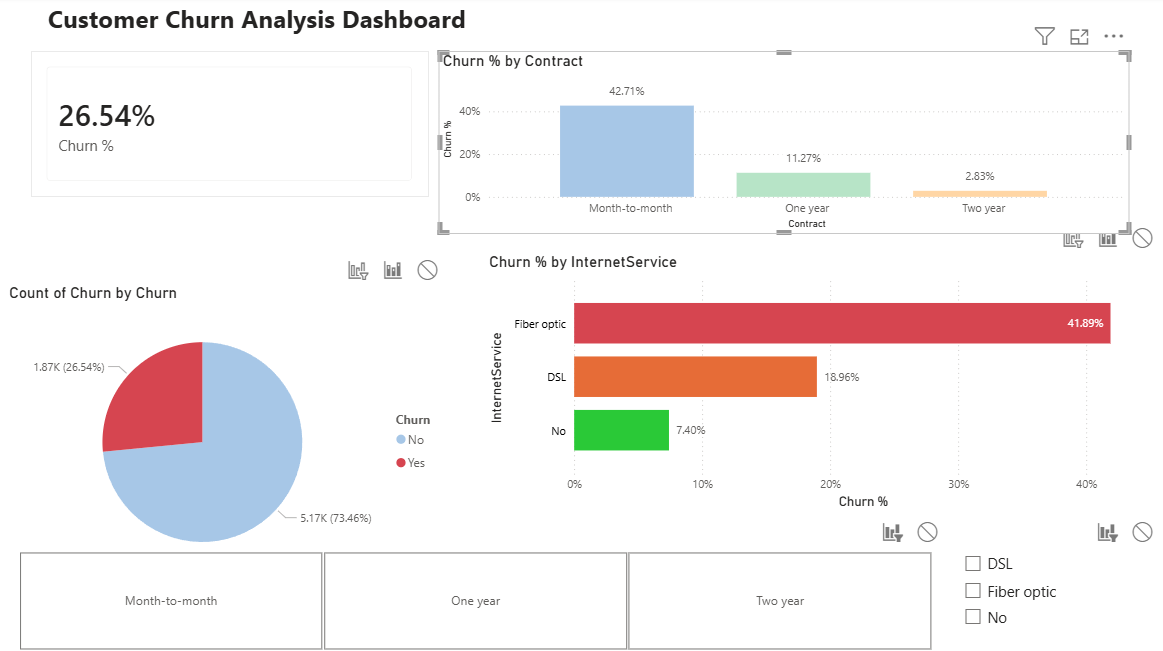

Layout of this report page (visuals, bound fields, positions):
{"tool":"powerbi","page":{"name":"Page 1","canvas":[1280,720],"ordinal":0},"visuals":[{"type":"cardVisual","fields":{"Data":["Churn.Churn %"]},"box":[38.2,60,433.9,159.6],"z":0},{"type":"pieChart","fields":{"Category":["Churn.Churn"],"Y":["CountNonNull(Churn.Churn)"]},"box":[9.6,313.8,489.8,327.4],"z":1000},{"type":"lineClusteredColumnComboChart","fields":{"Category":["Churn.Contract"],"Y":["Churn.Churn %"]},"box":[483,60,754.5,199.2],"z":2000},{"type":"clusteredBarChart","fields":{"Category":["Churn.InternetService"],"Y":["Churn.Churn %"]},"box":[533.5,279.7,746.3,285.1],"z":3000},{"type":"slicer","fields":{"Values":["Churn.Contract"]},"box":[0,600.3,1045.1,120.1],"z":3001},{"type":"slicer","fields":{"Values":["Churn.InternetService"]},"box":[1045.1,600.3,234.7,120.1],"z":3002},{"type":"textbox","box":[51.8,1.4,1148.8,58.7],"z":3003}]}

Visuals, with their boxes in screenshot pixels (x1, y1, x2, y2), scaled from the page's 1280x720 canvas onto the 1163x651 screenshot:
cardVisual - Churn.Churn %: 35 54 429 199
pieChart - Churn.Churn x CountNonNull(Churn.Churn): 9 284 454 580
lineClusteredColumnComboChart - Churn.Contract x Churn.Churn %: 439 54 1124 234
clusteredBarChart - Churn.InternetService x Churn.Churn %: 485 253 1162 511
slicer - Churn.Contract: 0 543 950 650
slicer - Churn.InternetService: 950 543 1162 650
textbox: 47 1 1091 54
